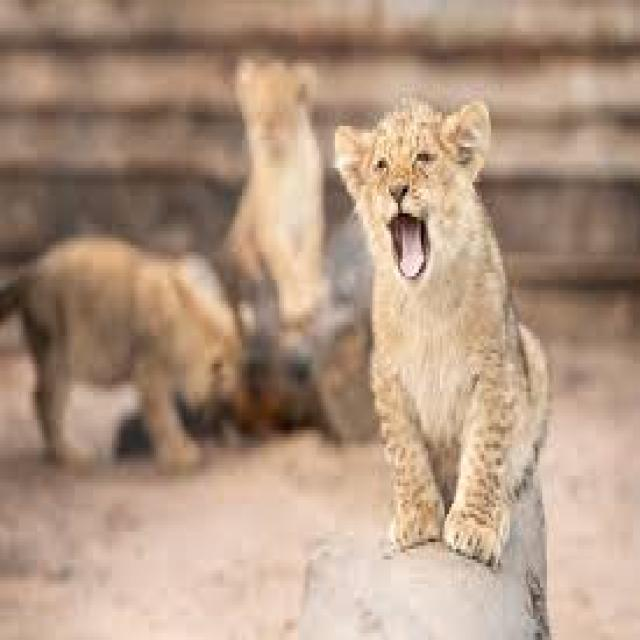Lion: (335, 101, 547, 560)
